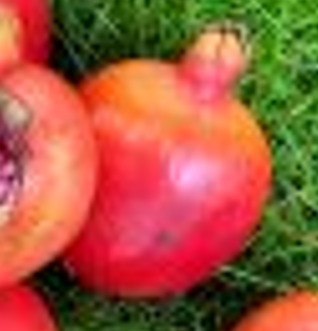pomegranate_A: (40, 19, 273, 298)
